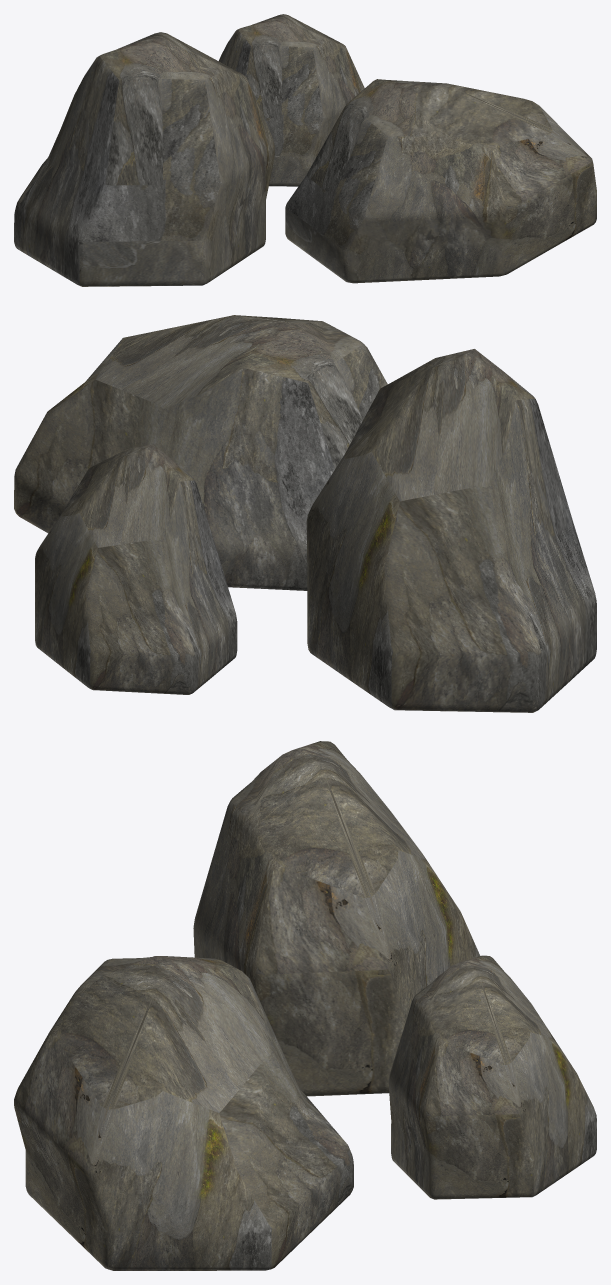
The model's file is rock.fbx.
3 views of the same model, one above another, from view 1: azimuth 30°, elevation 25°; view 2: azimuth 150°, elevation 25°; view 3: azimuth 270°, elevation 25° (orthographic). The views are drawn at different scales.
Parts seen in each view (by area): view 1: rock.002, rock.003, rock.001; view 2: rock.002, rock.003, rock.001; view 3: rock.003, rock.002, rock.001.
Boxes of the visible parts, bbox=[...] form: rock.002: bbox=[14, 32, 274, 286]; rock.003: bbox=[285, 79, 596, 283]; rock.001: bbox=[219, 14, 364, 186]; rock.002: bbox=[306, 349, 596, 712]; rock.003: bbox=[14, 315, 387, 590]; rock.001: bbox=[35, 444, 237, 694]; rock.003: bbox=[14, 956, 353, 1270]; rock.002: bbox=[193, 741, 480, 1096]; rock.001: bbox=[388, 955, 596, 1199].
Bounding box in the file's own units: 52.71 × 24.18 × 43.86.
Materials: 1 (1 with a texture image).
